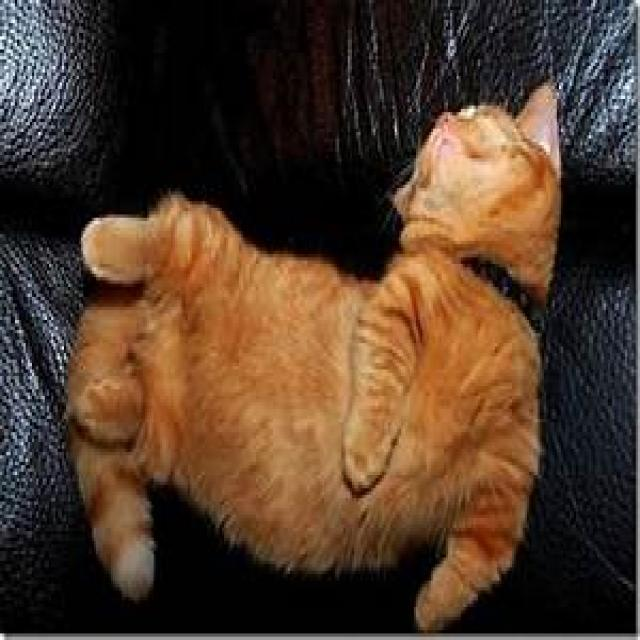animal: (62, 76, 563, 630)
